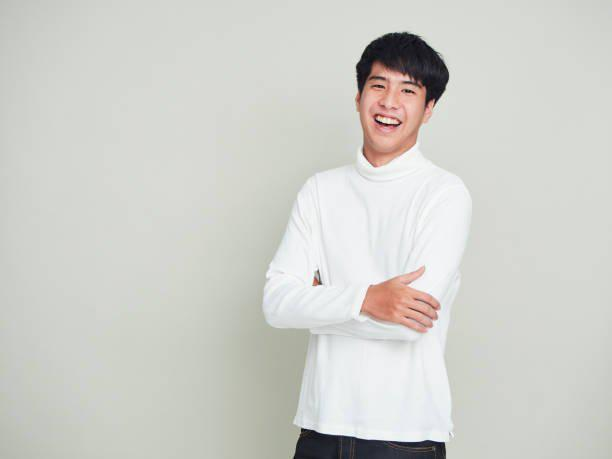Sober: (364, 65, 418, 145)
